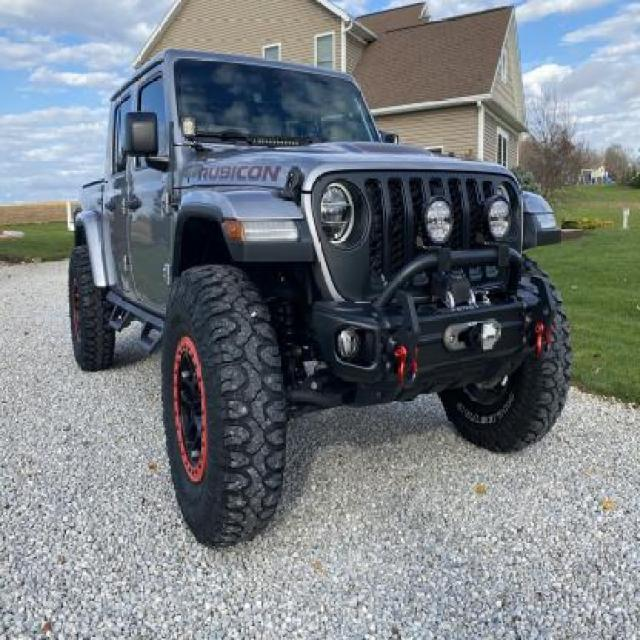Jeep: (64, 46, 579, 540)
